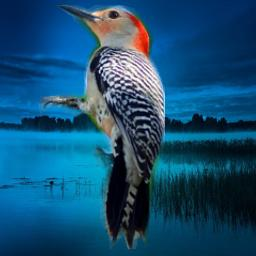Woodpecker: (39, 5, 165, 249)
